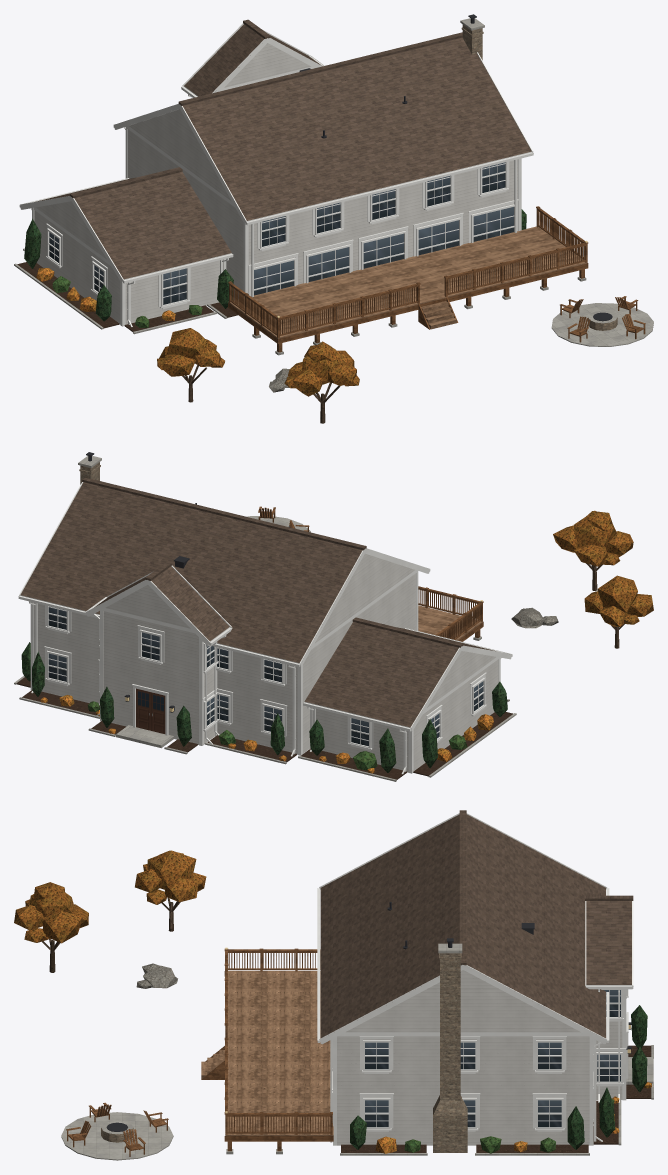
Rendered from se_clubhouse_harrow.fbx.
The picture shows the model from 3 angles, top to bottom: view 1: azimuth 30°, elevation 25°; view 2: azimuth 150°, elevation 25°; view 3: azimuth 270°, elevation 25°; orthographic projection. The views are drawn at different scales.
Parts seen in each view (by area): view 1: se_clubhouse_harrow_LOD0; view 2: se_clubhouse_harrow_LOD0; view 3: se_clubhouse_harrow_LOD0.
Part boxes in pixels (bbox=[...]): se_clubhouse_harrow_LOD0: bbox=[14, 14, 653, 423]; se_clubhouse_harrow_LOD0: bbox=[14, 452, 653, 781]; se_clubhouse_harrow_LOD0: bbox=[14, 810, 653, 1160].
Size of what is drawn, in the model's own units: 27 by 10.67 by 29.6.
2 materials, 2 textured.
